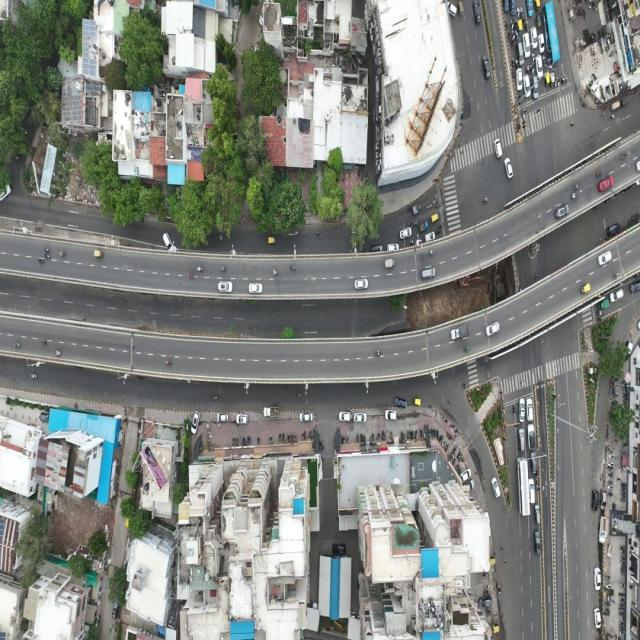3W: (578, 280, 593, 298), (472, 0, 481, 25), (92, 248, 107, 260), (265, 233, 278, 246), (609, 98, 621, 112), (456, 0, 465, 17), (620, 96, 631, 108), (491, 622, 501, 635), (544, 72, 551, 88), (430, 212, 439, 224), (412, 396, 422, 406), (550, 70, 555, 89), (535, 15, 541, 29), (517, 19, 522, 34), (490, 558, 497, 568), (125, 517, 130, 529)
Bus: (541, 1, 561, 67), (517, 455, 531, 518)
Cars: (595, 176, 617, 194), (215, 278, 235, 297), (597, 514, 609, 545), (595, 249, 614, 268), (481, 53, 492, 83), (483, 321, 502, 338), (526, 423, 537, 451), (489, 475, 501, 500), (162, 232, 176, 252), (503, 157, 515, 180), (553, 204, 570, 220), (605, 222, 622, 238), (593, 565, 602, 595), (530, 75, 540, 101), (248, 281, 264, 297), (533, 528, 542, 556), (353, 278, 371, 292), (522, 31, 531, 59), (191, 410, 201, 435), (599, 488, 609, 513), (331, 542, 347, 557), (526, 396, 535, 422), (591, 488, 600, 513), (517, 427, 526, 452), (420, 266, 436, 280), (493, 138, 503, 160), (446, 0, 457, 19), (609, 290, 625, 303), (523, 73, 531, 99), (111, 597, 120, 620), (592, 606, 601, 629), (515, 67, 523, 92), (533, 503, 542, 525), (528, 477, 535, 505), (353, 411, 368, 424), (399, 225, 412, 240), (628, 281, 640, 297), (530, 26, 538, 49), (338, 410, 352, 423), (459, 469, 472, 483), (519, 397, 526, 423), (299, 412, 314, 424), (517, 41, 524, 66), (236, 412, 249, 425), (384, 409, 397, 422), (394, 396, 407, 409), (479, 597, 493, 609), (537, 33, 545, 54), (530, 451, 537, 474), (536, 55, 543, 78), (525, 0, 534, 17), (424, 231, 436, 242), (216, 413, 229, 423), (370, 243, 384, 252), (386, 242, 399, 251), (509, 0, 516, 15), (535, 482, 540, 491)
LCV: (450, 323, 472, 342), (263, 406, 280, 418), (596, 298, 610, 310), (383, 257, 396, 269), (411, 202, 422, 215), (418, 221, 429, 232)
M2W: (59, 249, 68, 259), (270, 266, 279, 276), (289, 262, 299, 271), (215, 231, 224, 241), (30, 371, 39, 380), (164, 359, 173, 368), (462, 345, 471, 354), (38, 256, 47, 265), (196, 265, 205, 274), (572, 183, 581, 192), (373, 350, 383, 358), (570, 191, 578, 201), (186, 270, 194, 279), (612, 272, 621, 280), (314, 228, 322, 237), (581, 7, 587, 19), (39, 339, 49, 346), (510, 30, 516, 41), (445, 441, 450, 454), (597, 27, 602, 40), (517, 94, 522, 107), (506, 31, 511, 44), (44, 245, 51, 254), (219, 265, 228, 272), (595, 310, 604, 317), (497, 584, 502, 596), (592, 31, 597, 43), (588, 32, 594, 42), (595, 170, 602, 178), (621, 152, 628, 160), (561, 74, 565, 88), (601, 24, 605, 38), (441, 437, 446, 448), (44, 254, 53, 260), (435, 201, 441, 210), (576, 9, 582, 18), (522, 108, 526, 121), (557, 76, 561, 89), (295, 392, 302, 399), (618, 619, 625, 626), (618, 629, 625, 636), (604, 600, 611, 607), (13, 341, 20, 348), (428, 249, 435, 256), (622, 441, 629, 448), (482, 197, 489, 204), (268, 433, 272, 445), (308, 428, 312, 440), (439, 432, 443, 444), (620, 547, 626, 555), (604, 583, 612, 589), (607, 462, 615, 468), (513, 404, 517, 416), (515, 29, 519, 41), (525, 19, 529, 31), (516, 7, 520, 19), (415, 429, 419, 440), (511, 56, 515, 67), (505, 18, 509, 29), (522, 16, 526, 27), (484, 583, 490, 590), (483, 588, 489, 595), (620, 583, 626, 590), (619, 607, 626, 613), (620, 485, 627, 491), (607, 479, 614, 485), (54, 350, 61, 356), (409, 240, 416, 246), (437, 222, 444, 228), (232, 436, 236, 446), (247, 436, 251, 446), (376, 431, 380, 441), (402, 430, 406, 440), (451, 453, 455, 463), (512, 69, 516, 79), (515, 58, 519, 68), (511, 38, 514, 51), (212, 395, 218, 401), (288, 433, 291, 445), (431, 427, 434, 439), (433, 427, 436, 439), (453, 446, 457, 455), (619, 597, 625, 603), (607, 491, 613, 497), (607, 484, 613, 490), (612, 399, 618, 405), (621, 386, 630, 390), (407, 220, 413, 226), (414, 220, 420, 226), (436, 229, 442, 235), (511, 18, 514, 30), (515, 17, 518, 29), (452, 459, 457, 466), (620, 561, 627, 566), (620, 481, 627, 486), (608, 454, 615, 459), (356, 433, 359, 444), (371, 431, 374, 442), (381, 430, 384, 441), (411, 429, 414, 440), (437, 429, 440, 440), (532, 63, 535, 74), (528, 30, 531, 41), (520, 6, 523, 17), (606, 474, 614, 478), (622, 394, 630, 398), (622, 390, 630, 394), (235, 437, 238, 447), (242, 436, 245, 446), (245, 436, 248, 446), (282, 433, 285, 443), (301, 431, 304, 441), (304, 430, 307, 440), (319, 440, 322, 450), (343, 434, 346, 444), (360, 433, 363, 443), (420, 428, 423, 438), (620, 498, 626, 503), (542, 56, 545, 66), (532, 52, 535, 62), (529, 62, 532, 72), (526, 64, 529, 74), (530, 43, 533, 53), (620, 494, 627, 498), (607, 470, 614, 474), (622, 397, 629, 401), (592, 3, 596, 10), (257, 436, 260, 445), (279, 433, 282, 442), (294, 433, 297, 442), (341, 435, 344, 444), (346, 434, 349, 443), (409, 430, 412, 439), (535, 272, 538, 281), (620, 556, 626, 560), (620, 490, 626, 494), (483, 573, 489, 577), (623, 401, 629, 405), (555, 77, 557, 89), (322, 439, 324, 450), (429, 427, 431, 438), (458, 456, 461, 463), (607, 467, 614, 470), (291, 433, 293, 443)
